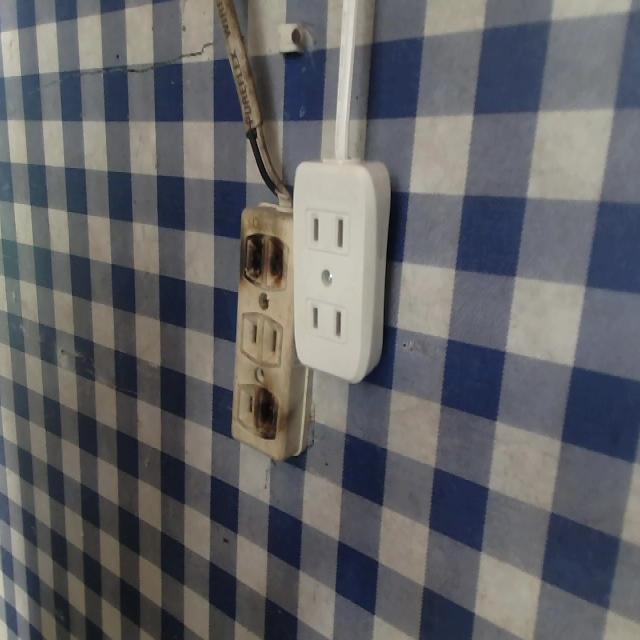-: (232, 227, 294, 292), (252, 384, 292, 437)
